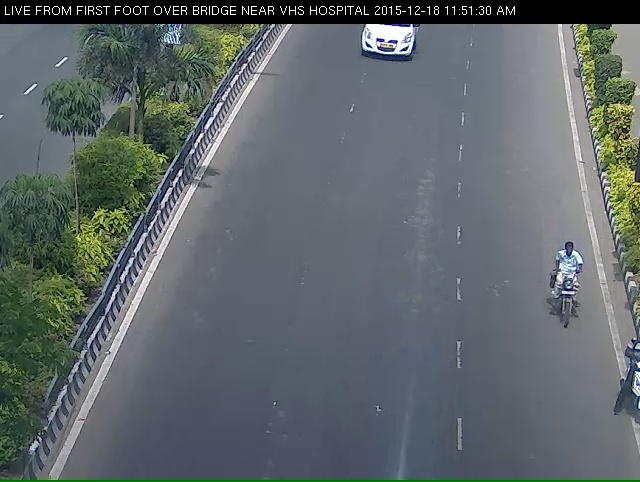Car: (354, 24, 427, 77)
Person: (549, 251, 586, 348)
